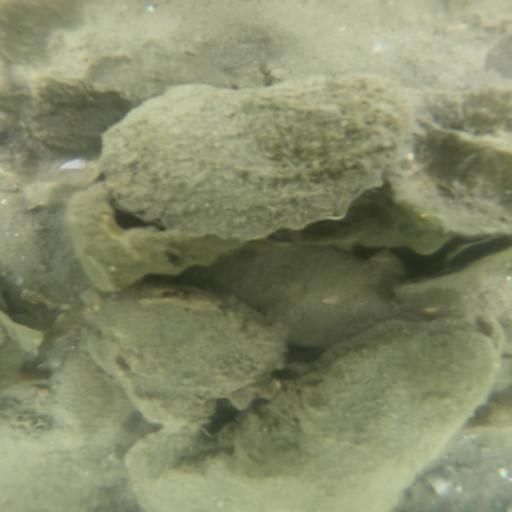Oyster-Closed: (101, 78, 419, 239), (88, 297, 285, 423), (203, 248, 399, 348)
Oyster-Open: (232, 308, 511, 499)
